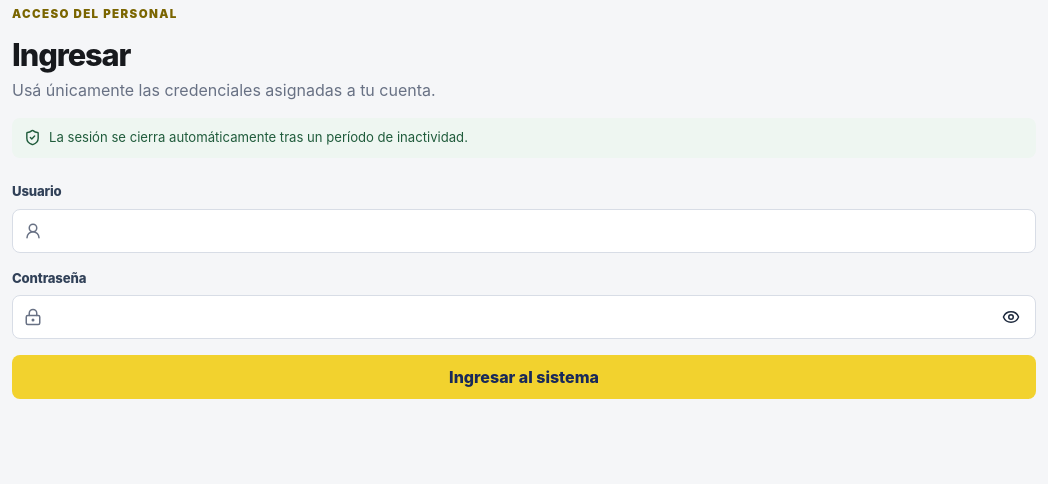
Test: LoginPage › muestra el error devuelto por autenticación sin abandonar el formulario
Type "usuario" into the field labelled "Usuario" at (524, 230), box [12,208,1036,252]
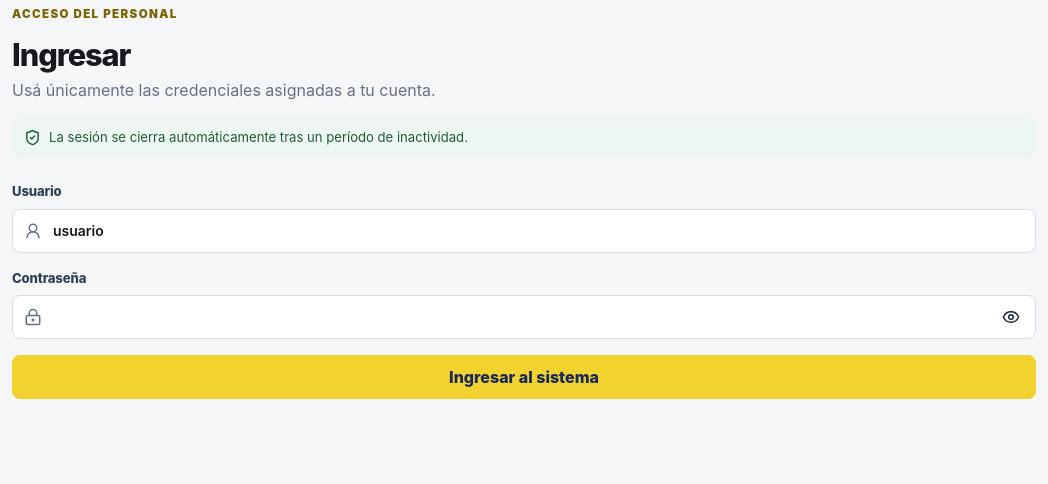
Type "incorrecta" into the password field labelled "Contraseña" at (524, 317), box [12,295,1036,339]
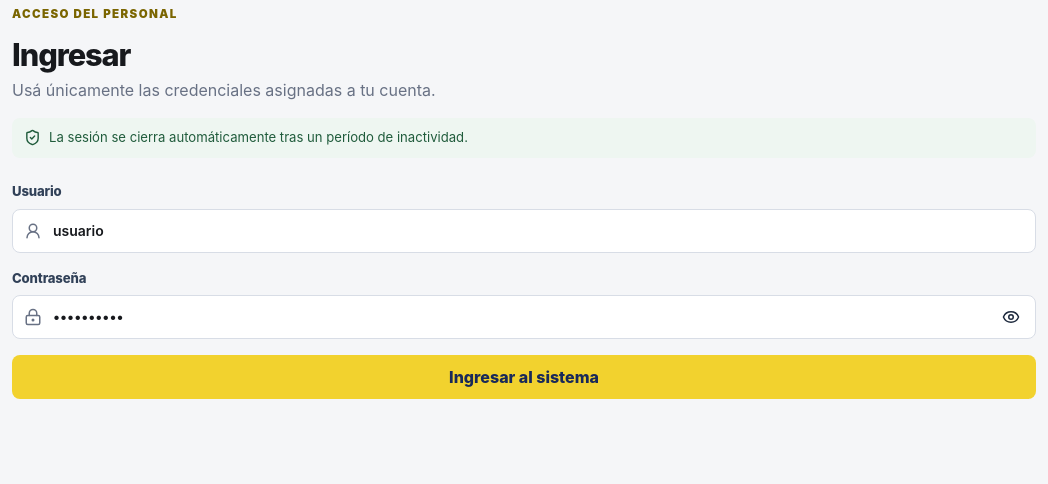
Click the button "Ingresar al sistema" at (524, 377), box [12,355,1036,399]
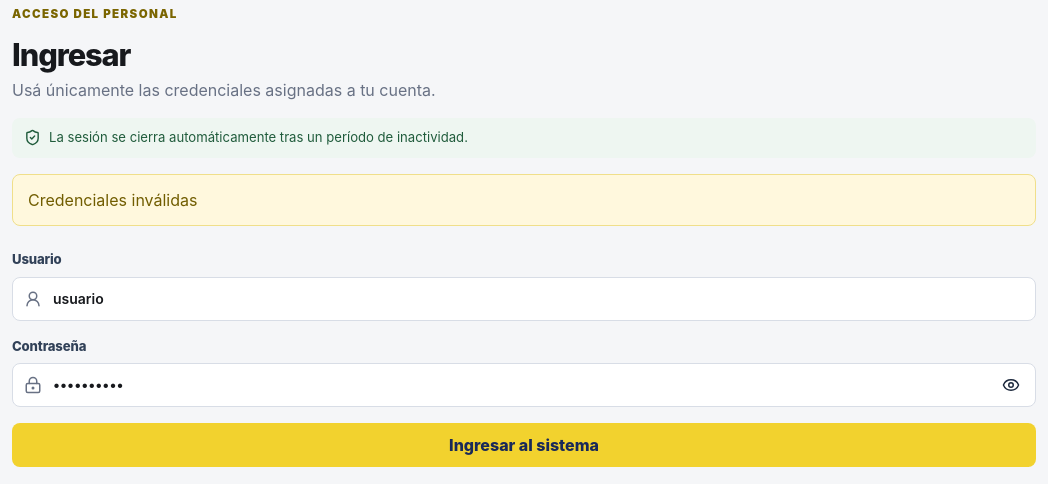
Check: the button "Ingresar al sistema" is shown, box [12,423,1036,467]
Check: the message reads "Credenciales inválidas", box [28,190,198,210]
